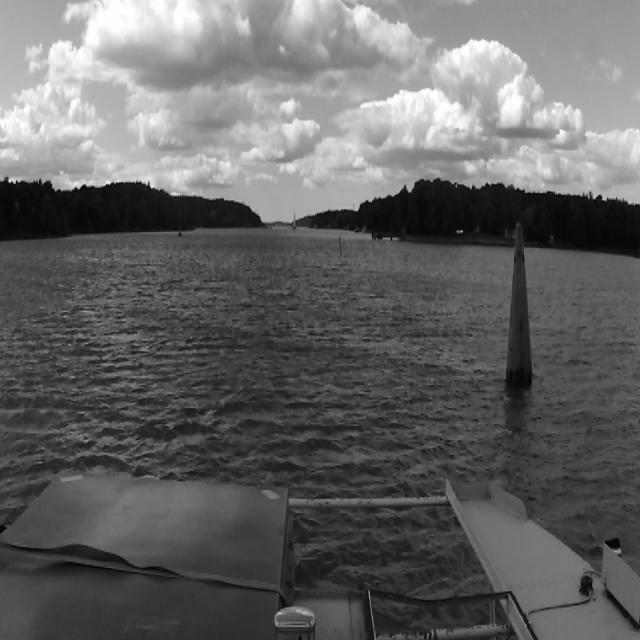buoy: (506, 222, 536, 390), (338, 235, 344, 257)
ship: (291, 208, 297, 230)
